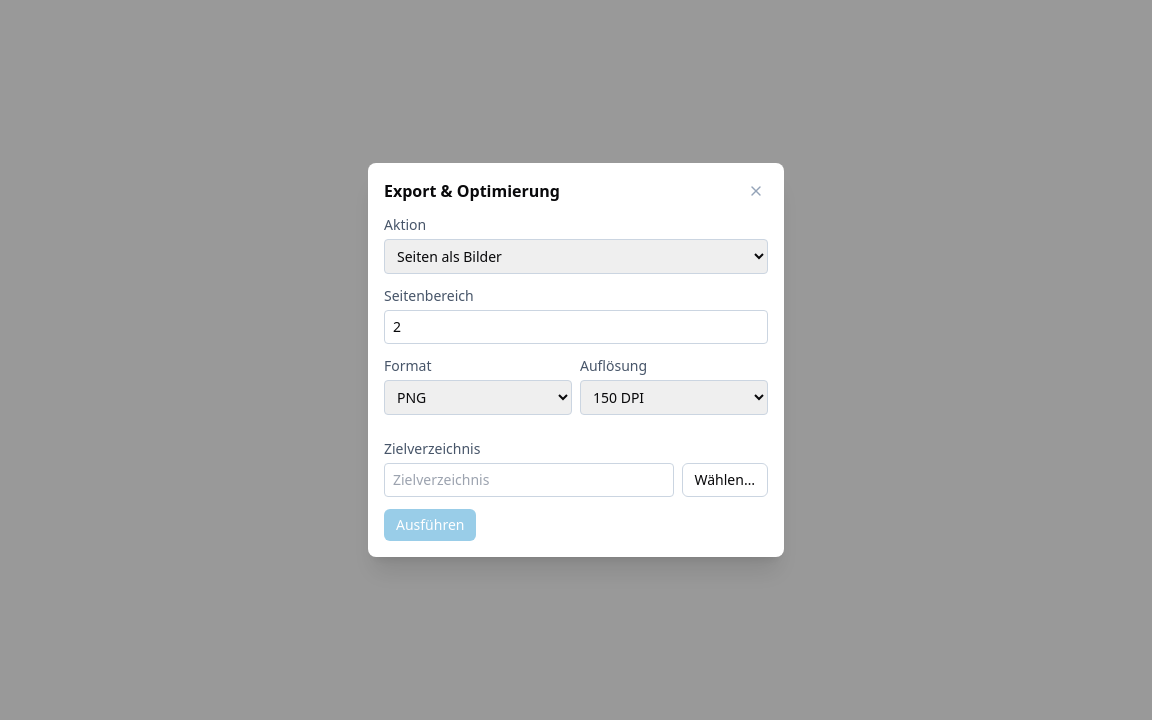
Test: ExportDialog (Section 12) › Linearisieren ist bei verschluesseltem Dokument deaktiviert + Hinweis
The width and height of the screenshot is (1152, 720).
Select "Linearisieren (Fast Web View)" in the dropdown with test id "exp-what": point(576, 256) [384,239,768,274]
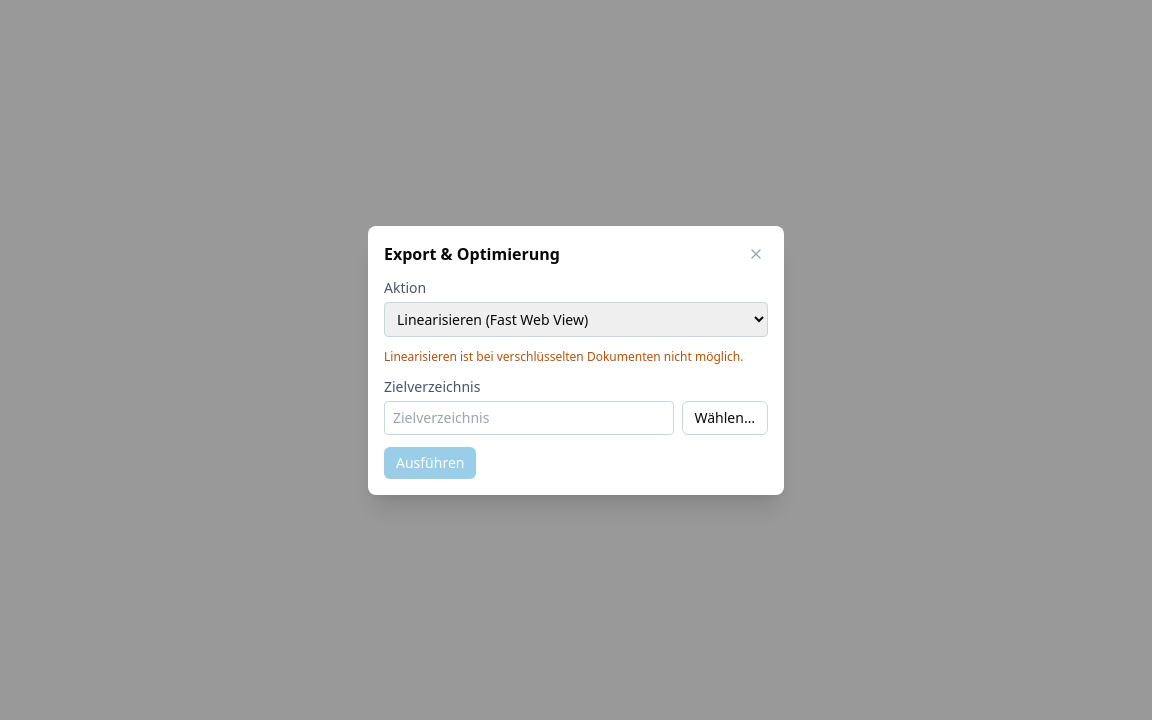
Click the button "Wählen…": point(725, 418) [682,400,768,434]
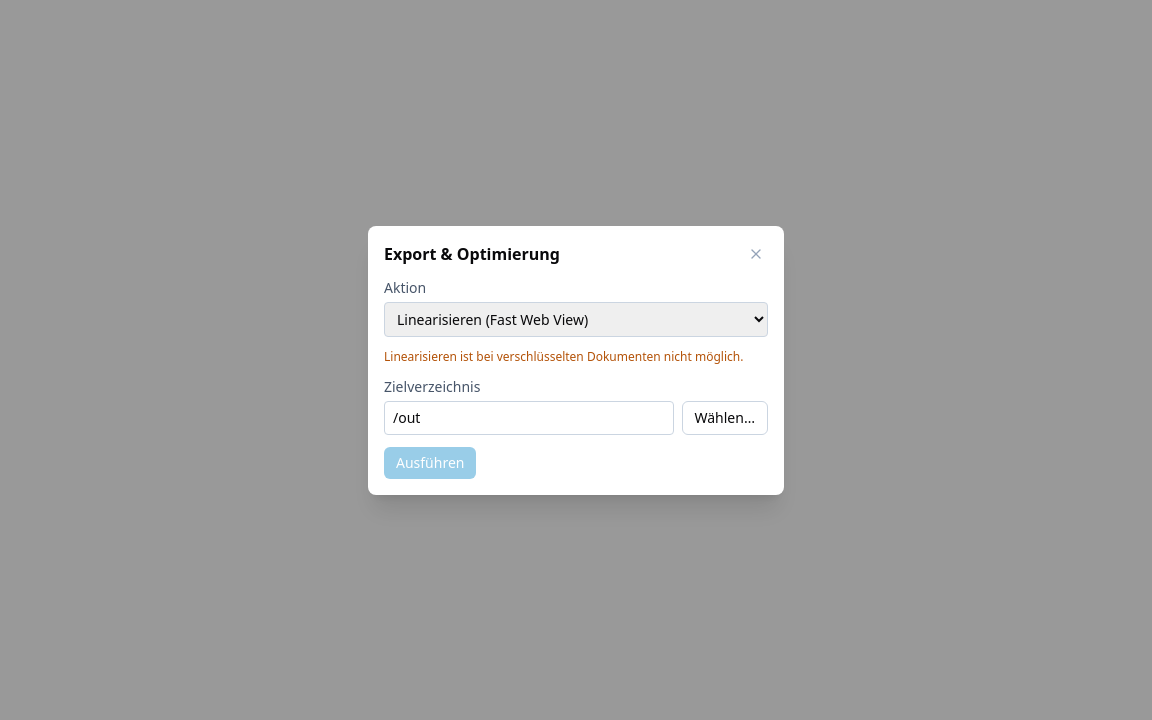
Expected: the button with test id "export-run" is disabled, [384,446,476,478]
Now the text with test id "exp-enc-hint" is shown, box [384,348,768,364]
Now the field with test id "dlg-dir-path" holds "/out", box [384,400,674,434]
